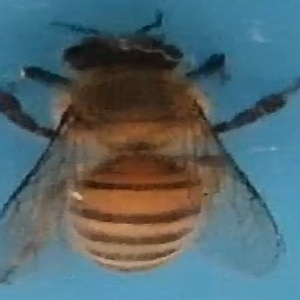bee: (8, 10, 292, 287)
